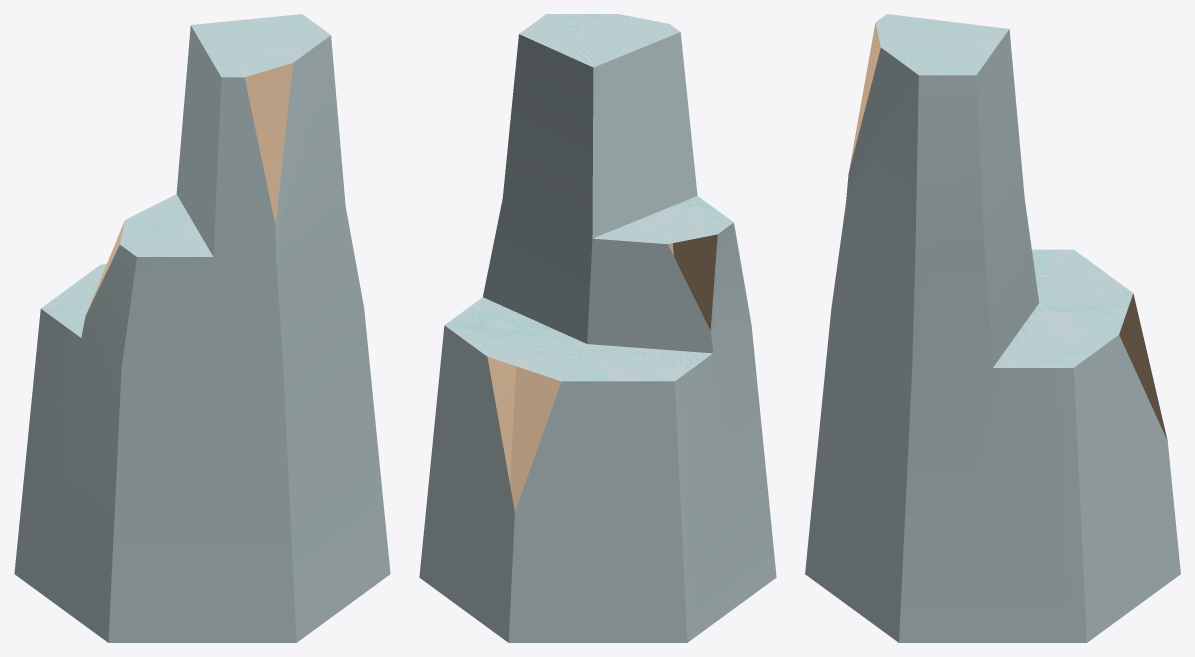
Rendered from rock_tall7.glb.
The picture shows the model from 3 angles, left to right: view 1: azimuth 30°, elevation 25°; view 2: azimuth 150°, elevation 25°; view 3: azimuth 270°, elevation 25°; orthographic projection. The views are drawn at different scales.
Visible parts, largest first — view 1: rock_tall7; view 2: rock_tall7; view 3: rock_tall7.
Part boxes in pixels (x1,y1,x2,y2): rock_tall7: (14,14,390,642); rock_tall7: (419,14,776,642); rock_tall7: (805,14,1180,642).
Size of the model in its own units: 4.25 by 7.83 by 4.91.
